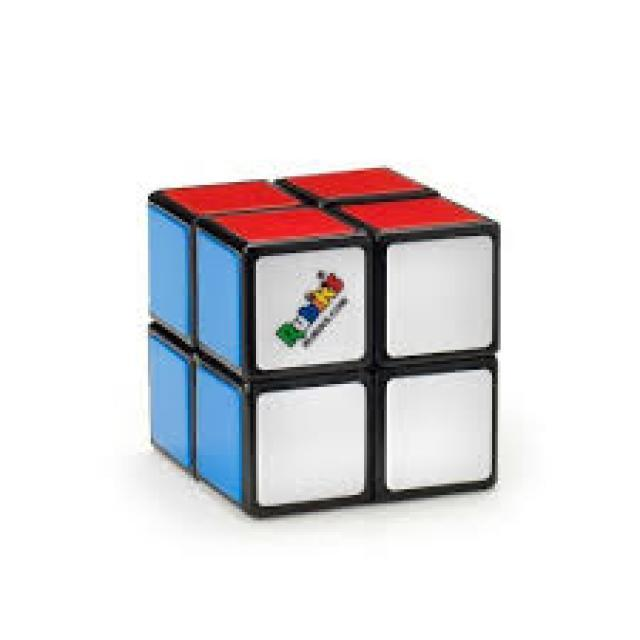Rub: (125, 160, 525, 516)
